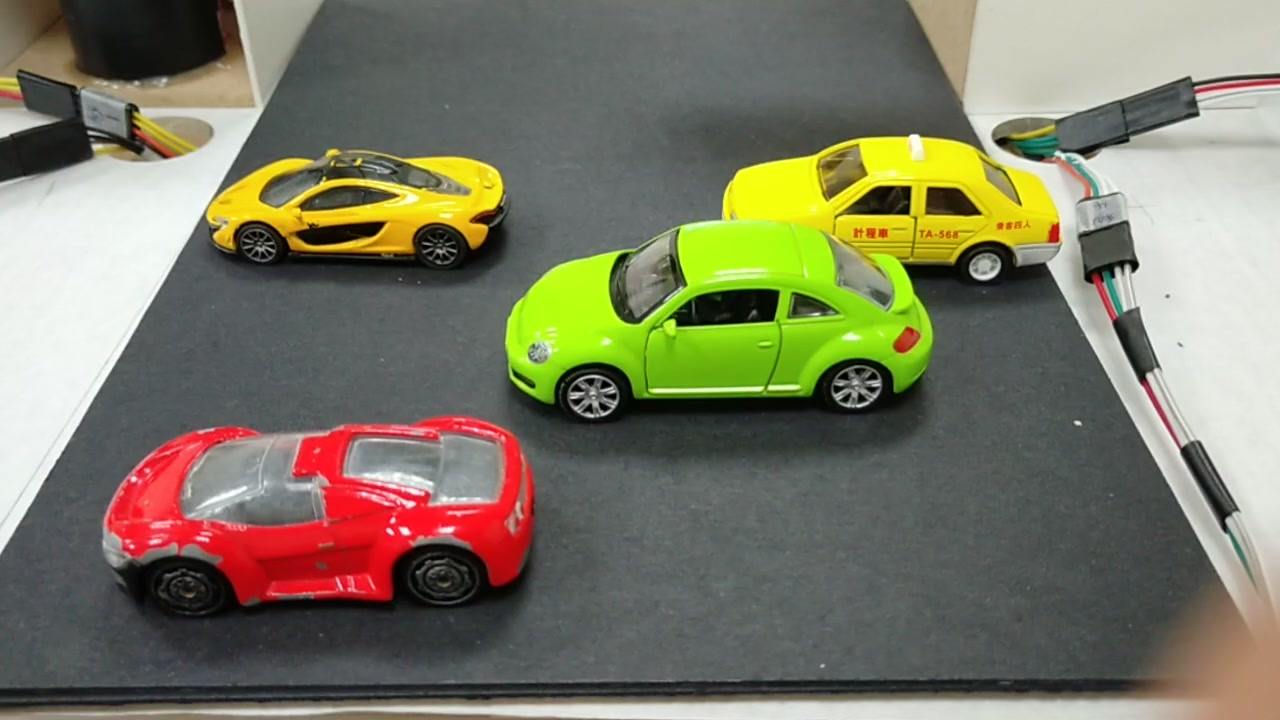car: (101, 424, 532, 602), (507, 252, 934, 417), (722, 147, 1061, 277), (214, 159, 502, 260)
